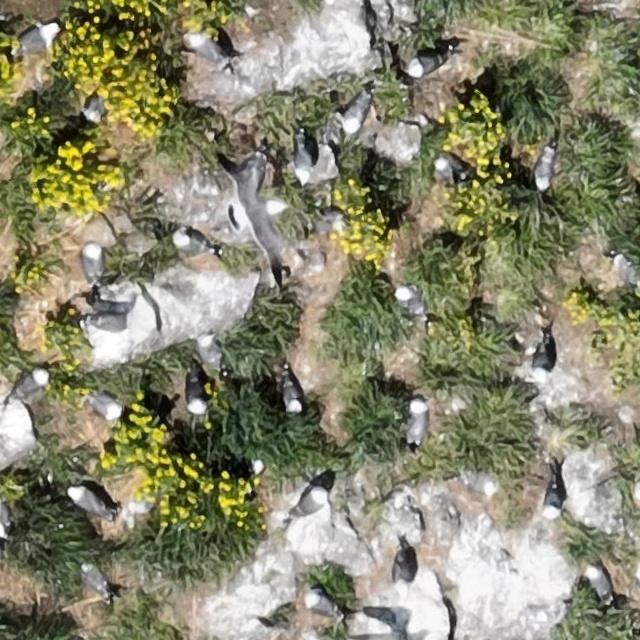F: (223, 160, 290, 282)
umineko: (344, 87, 374, 133), (454, 467, 498, 497), (531, 336, 554, 384), (16, 26, 52, 53), (394, 549, 412, 601), (84, 314, 136, 332), (295, 136, 314, 185), (396, 288, 426, 318), (407, 401, 427, 443), (535, 148, 555, 190), (16, 369, 47, 396), (70, 488, 102, 514), (88, 395, 121, 420), (83, 566, 110, 596), (298, 490, 326, 518), (408, 54, 443, 76), (175, 234, 211, 254), (197, 337, 221, 367), (305, 592, 334, 616), (284, 376, 303, 412), (83, 246, 102, 282), (187, 376, 204, 414), (590, 568, 611, 598), (190, 38, 220, 58), (434, 157, 458, 181), (85, 91, 104, 120), (545, 486, 561, 518), (0, 498, 9, 533)
